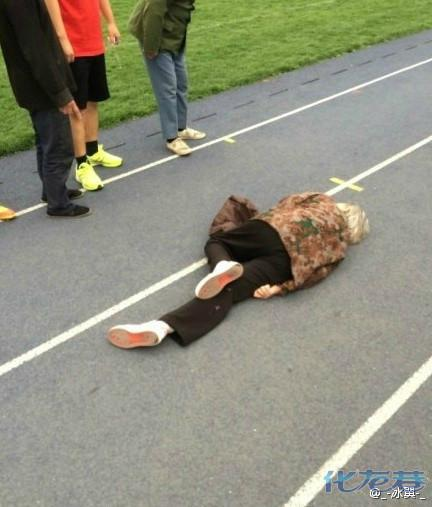fall: (105, 168, 370, 357)
